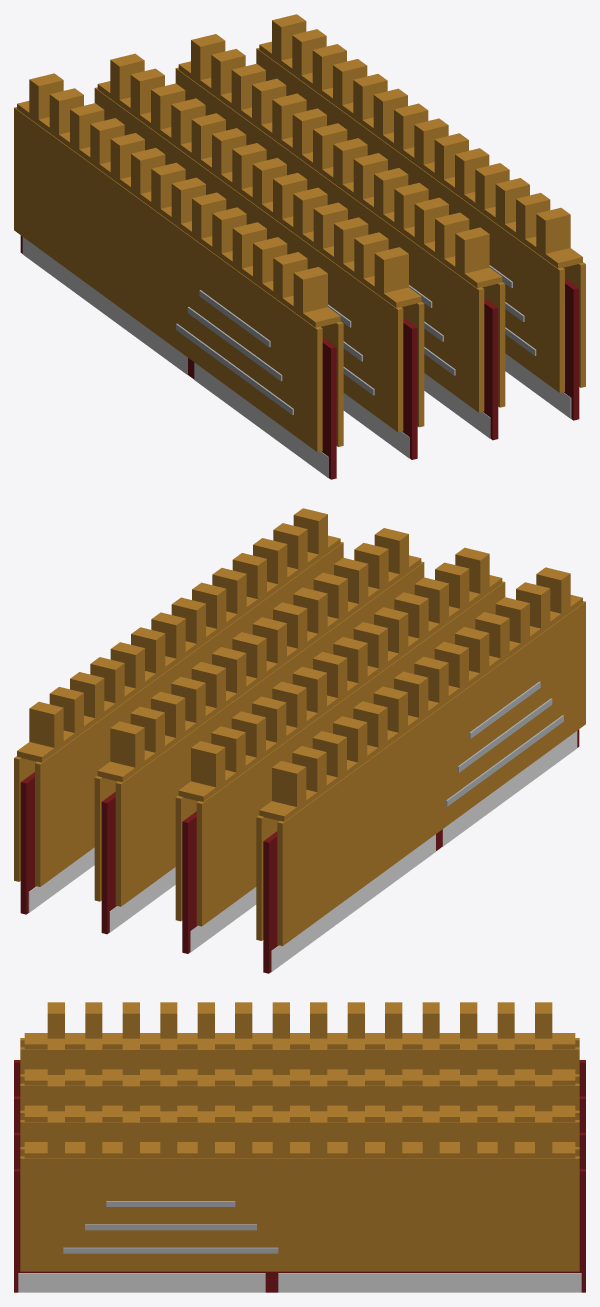
The model's file is hw_ram_ddr4_128gb.glb.
The picture shows the model from 3 angles, top to bottom: view 1: azimuth 30°, elevation 25°; view 2: azimuth 150°, elevation 25°; view 3: azimuth 270°, elevation 25°; orthographic projection. The views are drawn at different scales.
Visible parts, largest first — view 1: Stick_1, Stick_2, Stick_3, Body; view 2: Stick_1, Stick_2, Stick_3, Body; view 3: Body, Stick_1, Stick_2, Stick_3.
Part boxes in pixels (box(x1,y1,x2,y2)): Stick_1: box(14, 73, 343, 479); Stick_2: box(94, 53, 424, 459); Stick_3: box(175, 34, 505, 440); Body: box(256, 14, 585, 420); Stick_1: box(256, 567, 585, 973); Stick_2: box(175, 547, 505, 953); Stick_3: box(94, 528, 424, 934); Body: box(14, 508, 343, 914); Body: box(14, 1111, 585, 1292); Stick_1: box(14, 1002, 585, 1096); Stick_2: box(14, 1038, 585, 1132); Stick_3: box(14, 1075, 585, 1168).
Bounding box in the file's own units: 0.0672 × 0.0447 × 0.133.
